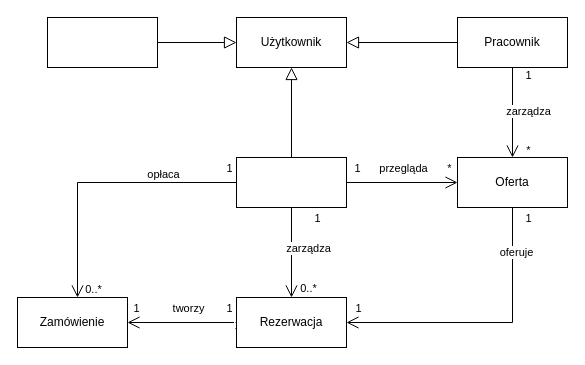
The diagram is 585 pixels wide and 365 high, and some of its shapes have lost their labels. Each missing label, with the centre of its shape:
"Administrator" belongs at (x=102, y=42).
"Klient" belongs at (x=291, y=182).
